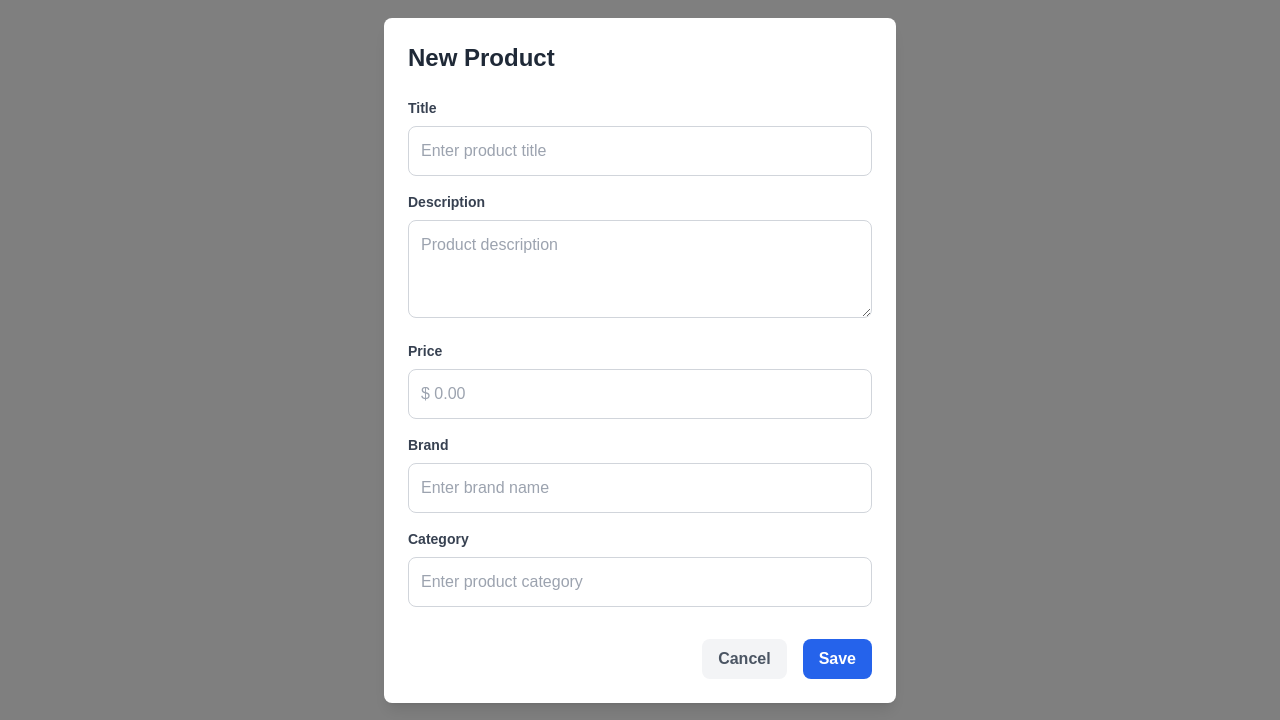
ProductModal › should format price correctly
Step 1. Type "1234" into the field with placeholder "$ 0.00" → (640, 394), box [408,368,872,418]
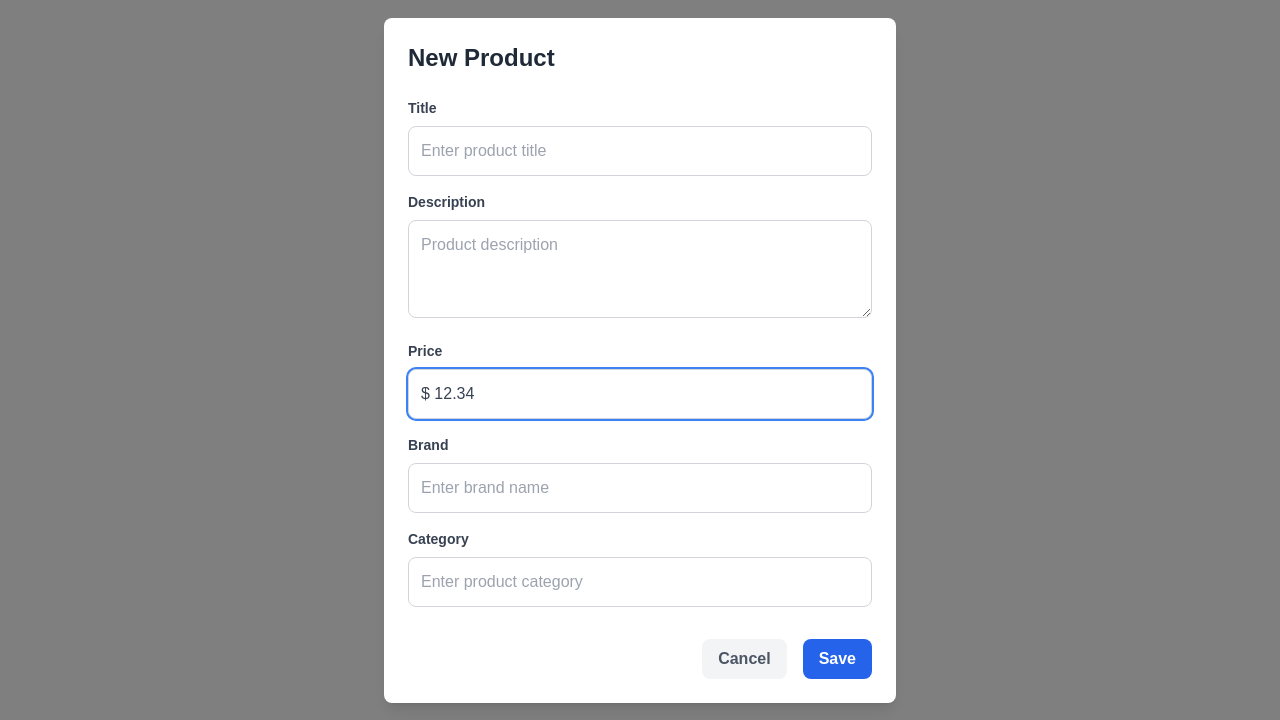
Now the field with placeholder "$ 0.00" holds "$ 12.34", box [408,368,872,418]
